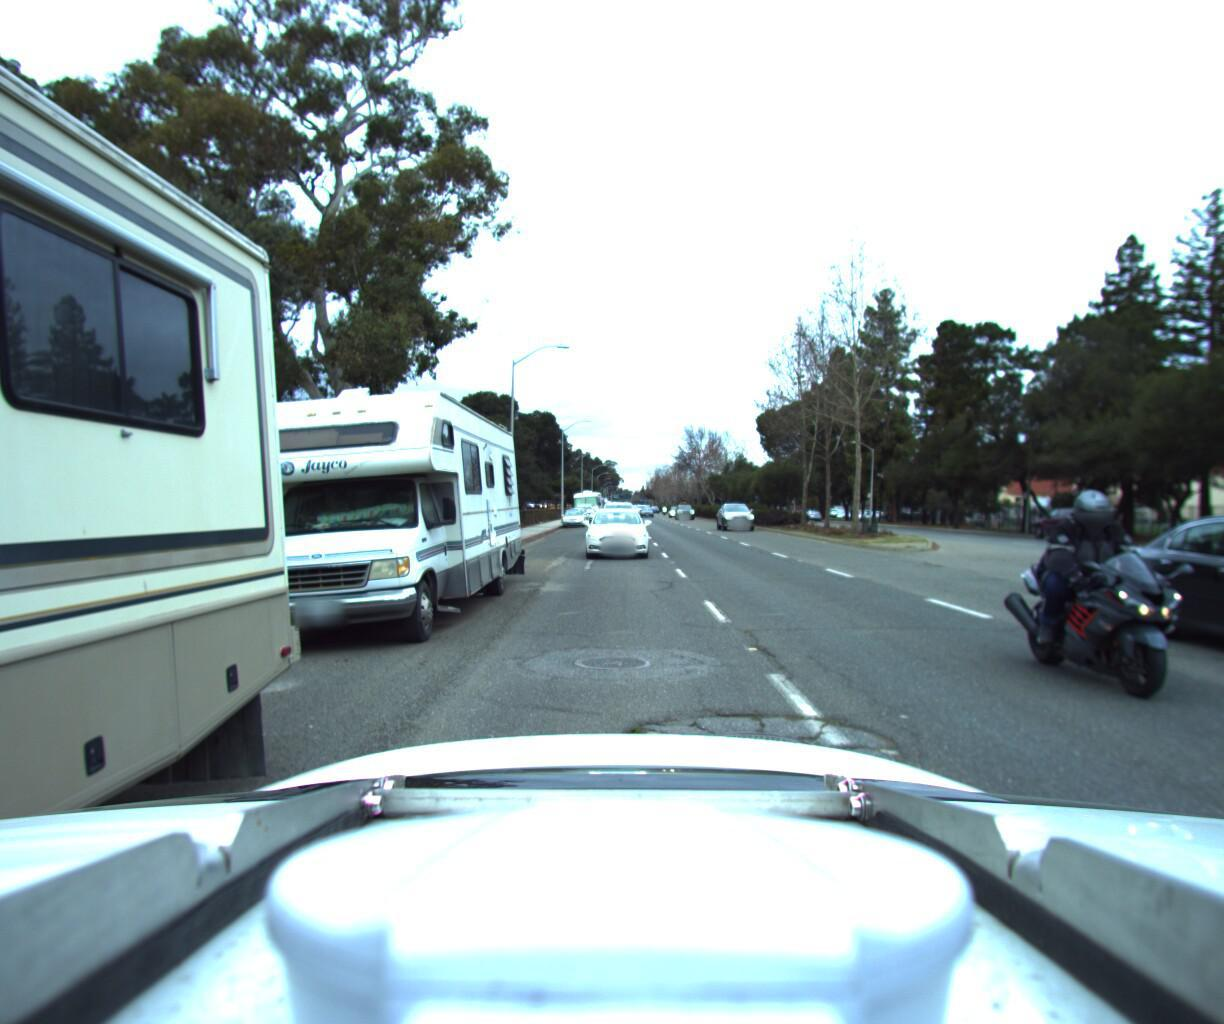car: (1161, 487, 1224, 764), (579, 500, 645, 557), (1028, 496, 1121, 534), (717, 497, 761, 525), (596, 494, 634, 526), (561, 498, 586, 519), (574, 494, 595, 515), (672, 498, 693, 514)
motorcycle: (1082, 463, 1224, 792)
other_vehicle: (168, 336, 528, 662), (569, 479, 604, 513)
